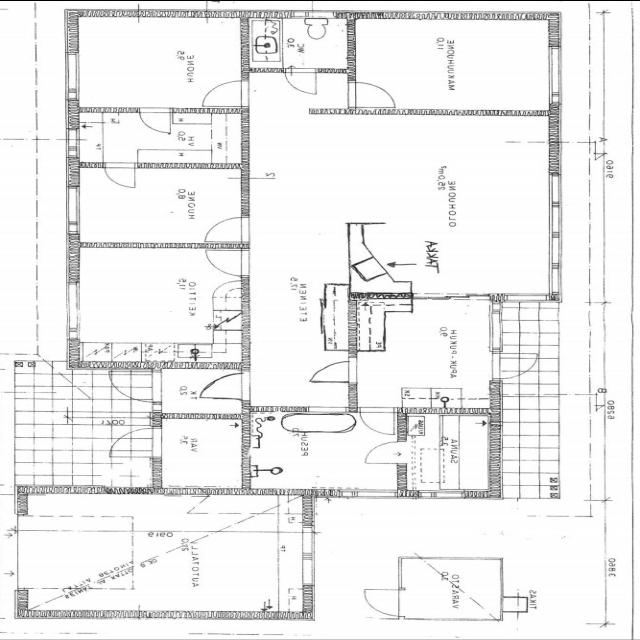door: (105, 425, 169, 462), (197, 77, 257, 111), (347, 79, 407, 112), (109, 369, 163, 403), (201, 371, 258, 403), (357, 583, 403, 619), (202, 248, 255, 277), (135, 103, 181, 135), (280, 66, 326, 95), (202, 218, 251, 245), (365, 442, 413, 467), (498, 352, 544, 378), (208, 306, 248, 334), (103, 161, 139, 190), (310, 361, 353, 385)
window: (544, 168, 568, 297), (542, 41, 569, 105), (298, 523, 324, 586), (490, 282, 564, 304), (58, 50, 89, 99), (336, 484, 396, 504), (60, 185, 82, 233), (67, 281, 83, 345), (415, 486, 467, 502), (63, 124, 79, 156)
